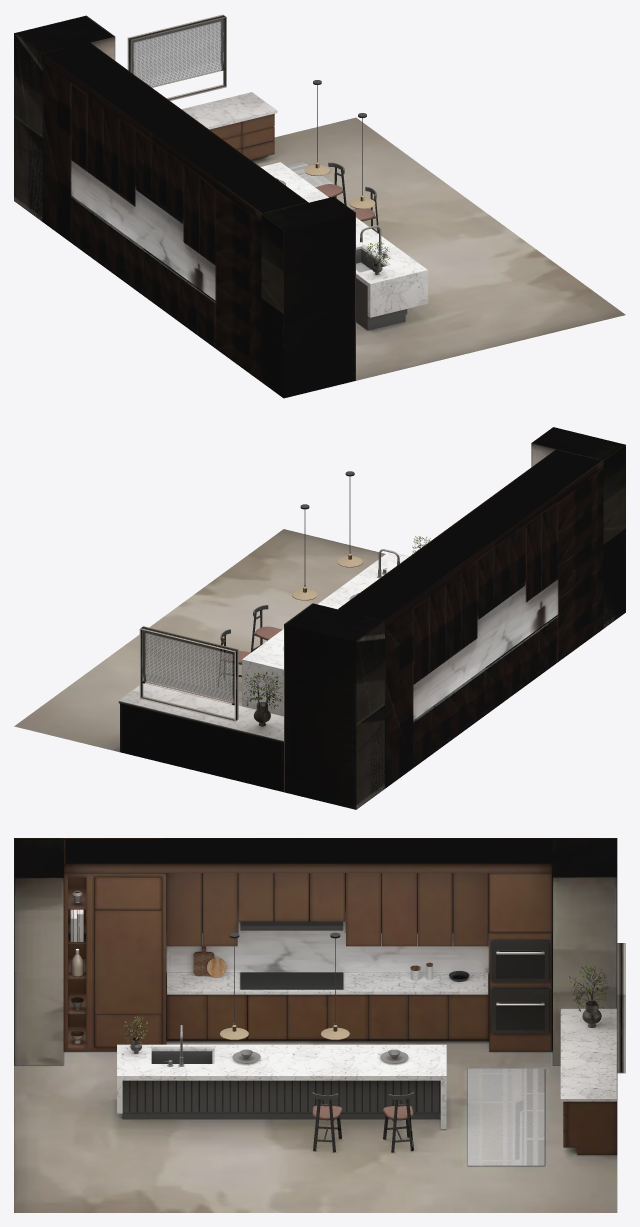
The model's file is kitchen-island.glb.
3 renders of one model, top to bottom at view 1: azimuth 30°, elevation 25°; view 2: azimuth 150°, elevation 25°; view 3: azimuth 270°, elevation 25°, orthographic. The views are drawn at different scales.
Visible parts, largest first — view 1: house_house1_0, wood_wood_0, house_house2_0, table_table_0, curtain_curtain2_0, bar_bar1_0, bar_bar2_0; view 2: house_house1_0, wood_wood_0, house_house2_0, table_table_0, curtain_curtain2_0; view 3: house_house1_0, wood_wood_0, table_table_0, house_house2_0, bar_bar1_0, carpet_carpet_0, cooking bench_cooking bench_0, oven_oven2_0, oven_oven3_0, seat_seat2_0, bar_bar2_0, leaves.001_leaves_0 (+5 smaller).
Boxes of the visible parts, left/top/right/bottom form: house_house1_0: left=14, top=14, right=625, bottom=398; wood_wood_0: left=43, top=43, right=308, bottom=380; house_house2_0: left=14, top=33, right=282, bottom=397; table_table_0: left=71, top=92, right=428, bottom=317; curtain_curtain2_0: left=131, top=18, right=224, bottom=87; bar_bar1_0: left=356, top=249, right=407, bottom=330; bar_bar2_0: left=356, top=225, right=387, bottom=272; house_house1_0: left=14, top=427, right=625, bottom=809; wood_wood_0: left=120, top=449, right=603, bottom=791; house_house2_0: left=356, top=444, right=625, bottom=808; table_table_0: left=118, top=552, right=557, bottom=743; curtain_curtain2_0: left=142, top=630, right=234, bottom=703; house_house1_0: left=14, top=838, right=625, bottom=1212; wood_wood_0: left=64, top=838, right=616, bottom=1154; table_table_0: left=117, top=972, right=616, bottom=1129; house_house2_0: left=14, top=838, right=617, bottom=1026; bar_bar1_0: left=122, top=1051, right=440, bottom=1119; carpet_carpet_0: left=467, top=1068, right=544, bottom=1166; cooking bench_cooking bench_0: left=240, top=908, right=343, bottom=989; oven_oven2_0: left=492, top=940, right=548, bottom=1029; oven_oven3_0: left=492, top=941, right=548, bottom=1033; seat_seat2_0: left=312, top=1092, right=414, bottom=1152; bar_bar2_0: left=151, top=1025, right=212, bottom=1066; leaves.001_leaves_0: left=123, top=965, right=609, bottom=1042.
Size of the model in its own units: 6.39 by 3 by 8.84.
Materials: 28 (28 with a texture image).
